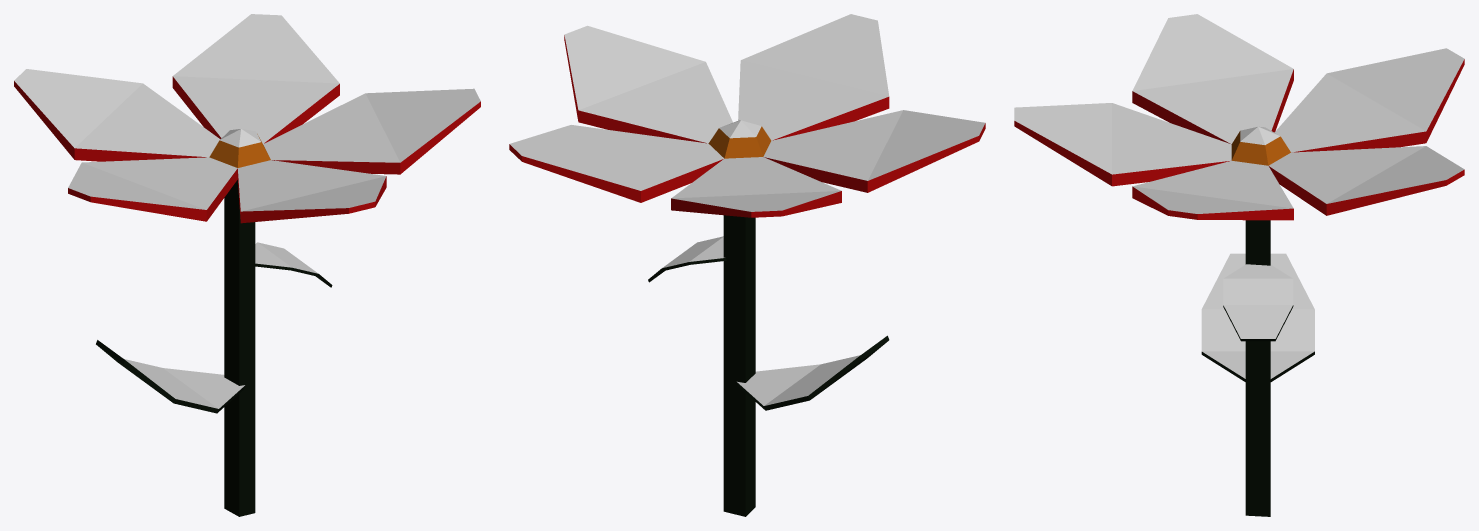
File: Flower_1_Snow.obj
3 views of the same model, side by side, from view 1: azimuth 30°, elevation 25°; view 2: azimuth 150°, elevation 25°; view 3: azimuth 270°, elevation 25° (orthographic). The views are drawn at different scales.
Parts seen in each view (by area): view 1: Flower_1_Snow_Cube.011; view 2: Flower_1_Snow_Cube.011; view 3: Flower_1_Snow_Cube.011.
Part boxes in pixels (box(x1,y1,x2,y2)): Flower_1_Snow_Cube.011: box(14, 14, 480, 516); Flower_1_Snow_Cube.011: box(509, 14, 985, 516); Flower_1_Snow_Cube.011: box(1014, 14, 1464, 516).
Bounding box in the file's own units: 0.712 × 0.6595 × 0.6771.
